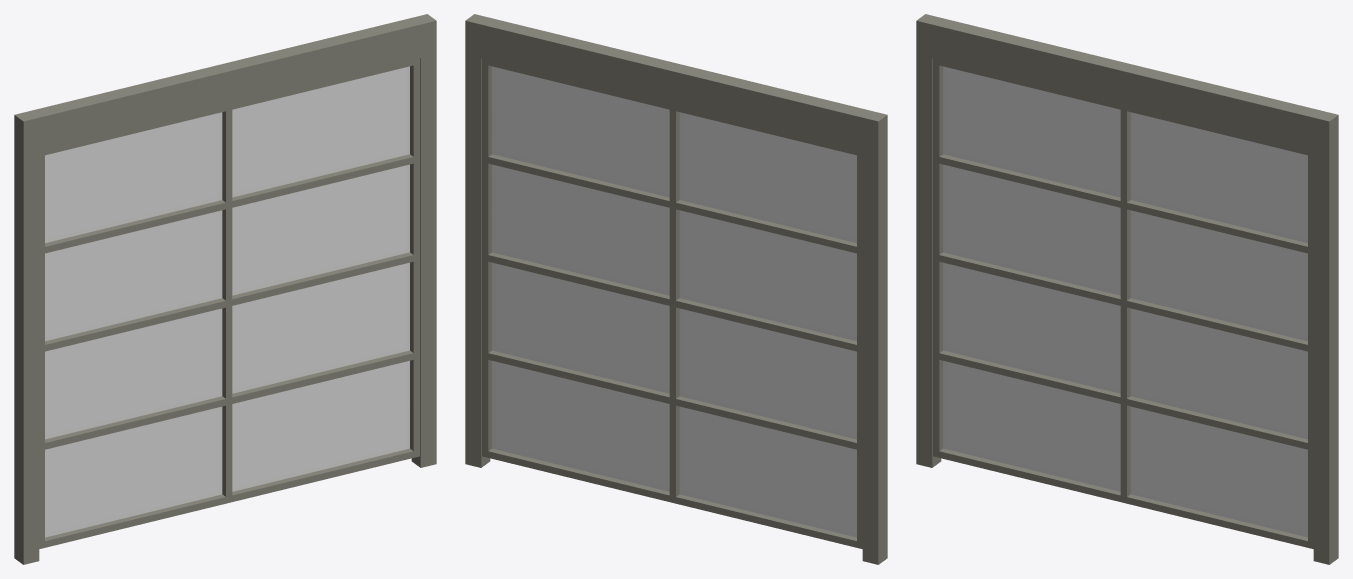
File: es-polycaB_h2000_stain.fbx
The picture shows the model from 3 angles, left to right: view 1: azimuth 30°, elevation 25°; view 2: azimuth 150°, elevation 25°; view 3: azimuth 330°, elevation 25°; orthographic projection.
Visible parts, largest first — view 1: es-polycaB_h2000_stain; view 2: es-polycaB_h2000_stain; view 3: es-polycaB_h2000_stain.
Part boxes in pixels (<box>): es-polycaB_h2000_stain: <box>14,14,436,564</box>; es-polycaB_h2000_stain: <box>465,14,887,564</box>; es-polycaB_h2000_stain: <box>916,14,1338,564</box>.
Size of the model in its own units: 195 by 200 by 7.5.
2 materials, 1 textured.
